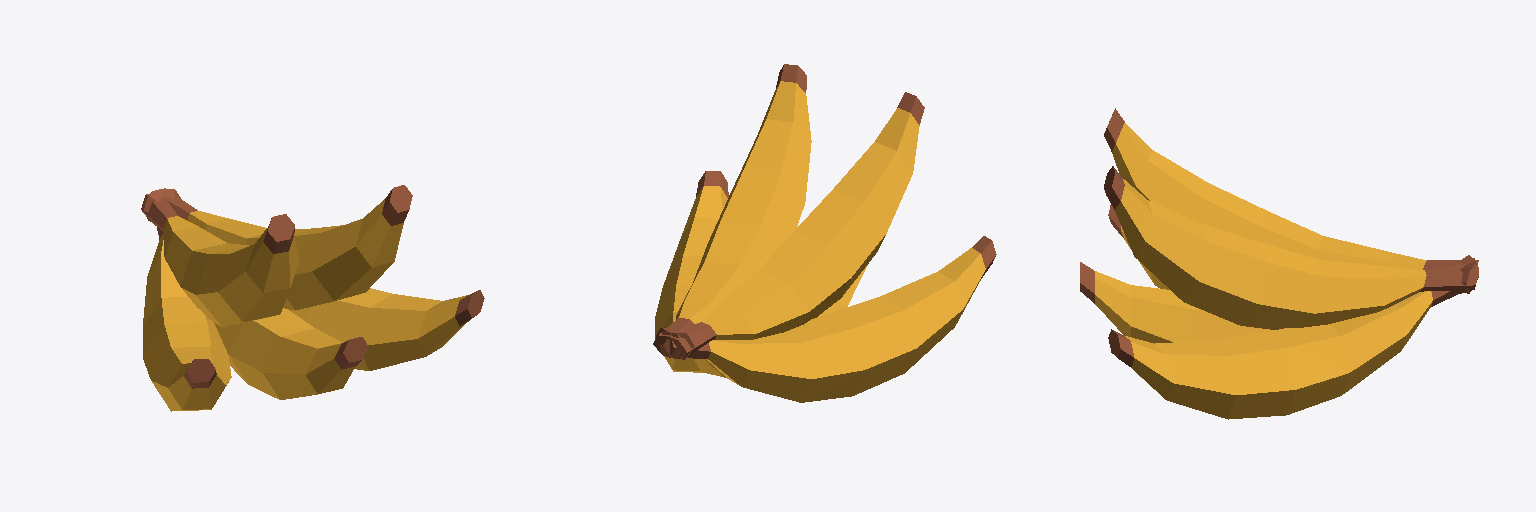
Rendered from banana_stack5.obj.
3 renders of one model, left to right at view 1: azimuth 30°, elevation 25°; view 2: azimuth 150°, elevation 25°; view 3: azimuth 270°, elevation 25°, orthographic.
Parts seen in each view (by area): view 1: banana.004, banana.003, banana.002, banana.001, banana; view 2: banana.002, banana.004, banana.003, banana.001, banana; view 3: banana.003, banana.001, banana.004, banana, banana.002.
Part boxes in pixels (x1,y1,x2,y2): banana.004: (141, 193, 299, 326); banana.003: (162, 185, 412, 310); banana.002: (143, 189, 231, 411); banana.001: (144, 190, 484, 370); banana: (151, 188, 368, 399); banana.002: (656, 236, 996, 402); banana.004: (666, 92, 924, 359); banana.003: (653, 64, 811, 354); banana.001: (655, 171, 728, 372); banana: (659, 265, 867, 377); banana.003: (1104, 166, 1478, 329); banana.001: (1108, 255, 1478, 419); banana.004: (1104, 108, 1478, 269); banana: (1080, 258, 1474, 343); banana.002: (1108, 205, 1475, 293).
Bounding box in the file's own units: 0.5494 × 0.4097 × 0.6372.